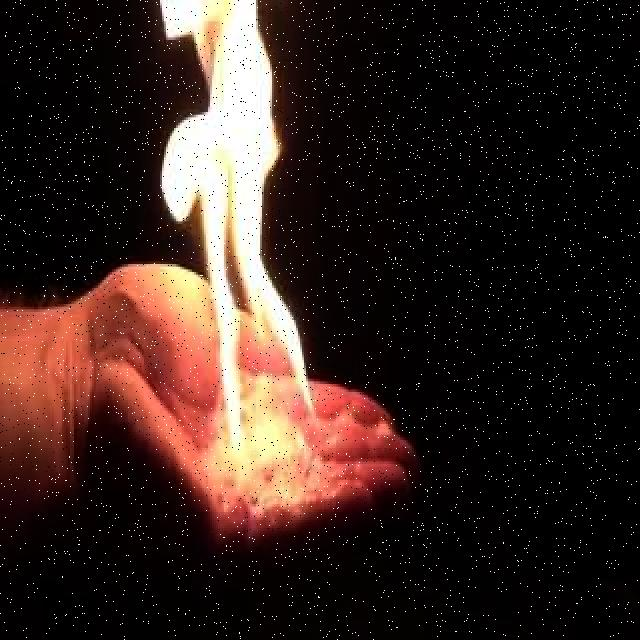fire: (161, 4, 321, 464)
